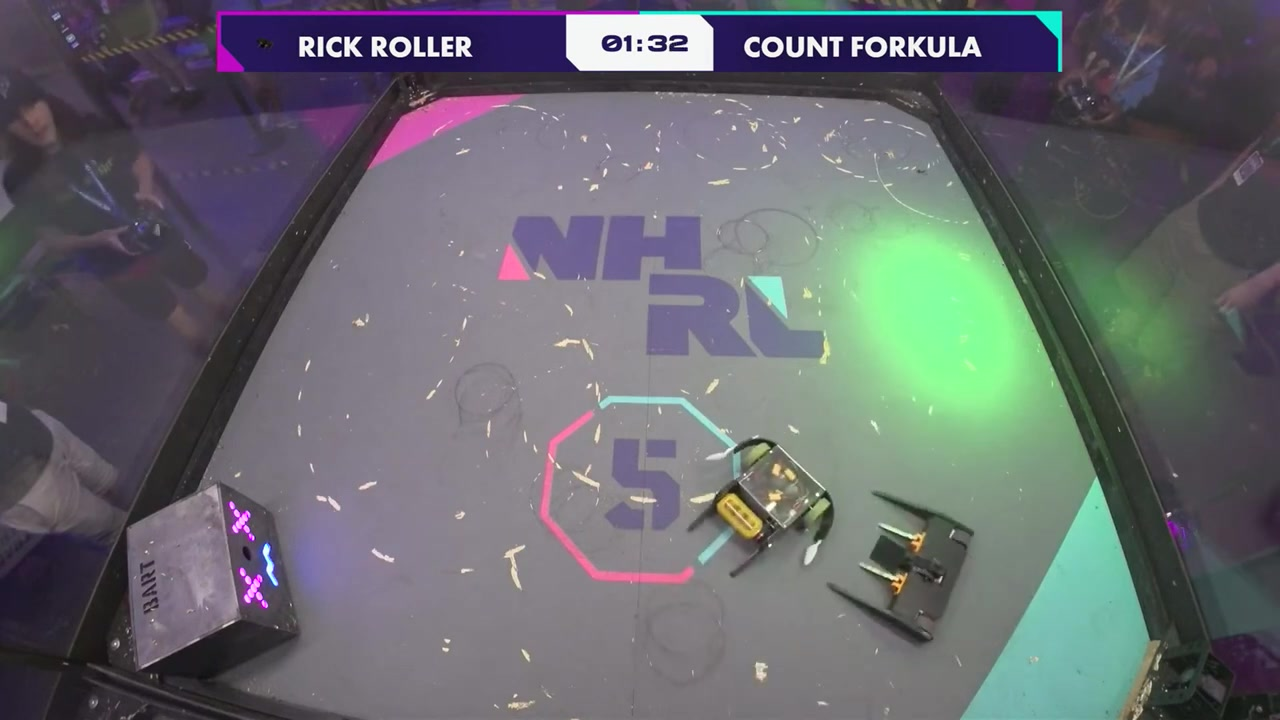combatbot: (867, 509, 973, 641), (718, 437, 835, 549)
housebot: (113, 483, 304, 676)
